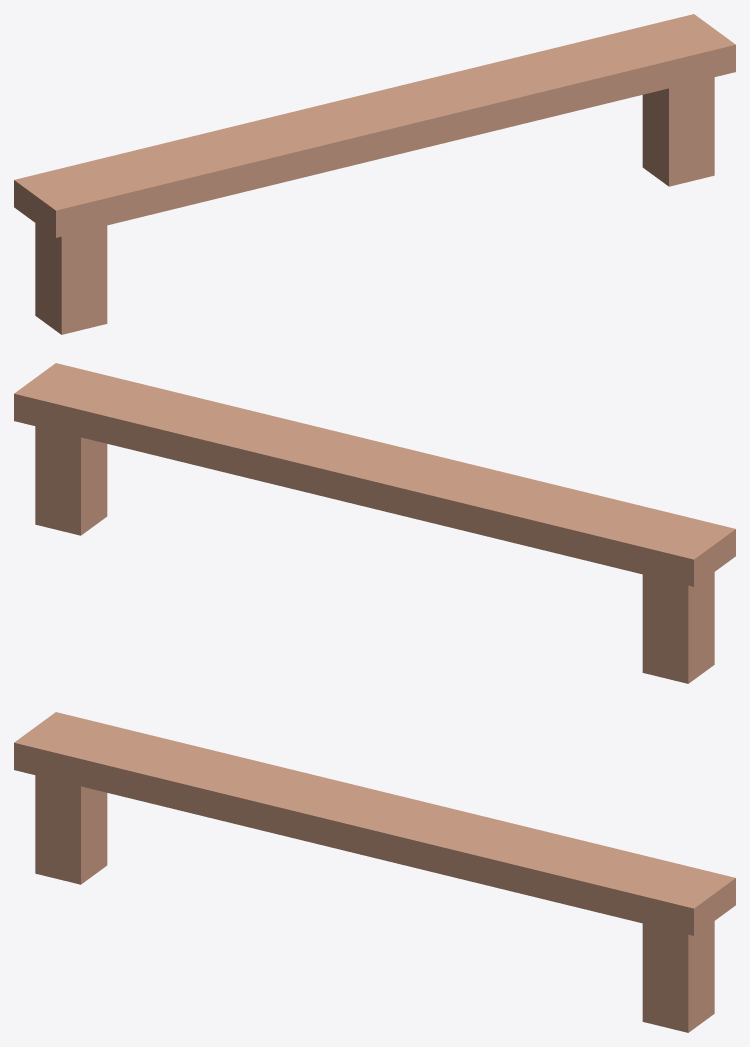
File: fence_simpleLow.glb
3 renders of one model, top to bottom at view 1: azimuth 30°, elevation 25°; view 2: azimuth 150°, elevation 25°; view 3: azimuth 330°, elevation 25°, orthographic.
Parts seen in each view (by area): view 1: fence_simpleLow; view 2: fence_simpleLow; view 3: fence_simpleLow.
Boxes of the visible parts, x1,y1,x2,y2 form: fence_simpleLow: (14,14,735,334); fence_simpleLow: (14,363,735,683); fence_simpleLow: (14,712,735,1032).
Size of the model in its own units: 1.04 by 0.195 by 0.1112.
